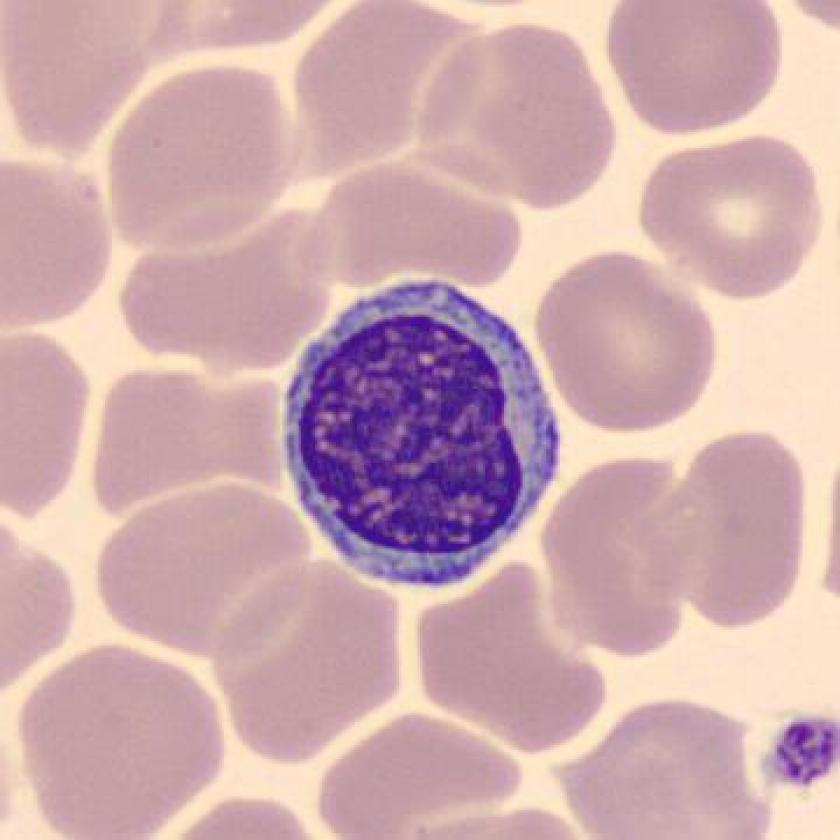lymphocyte: (262, 267, 580, 607)
platelets: (745, 704, 840, 798)
